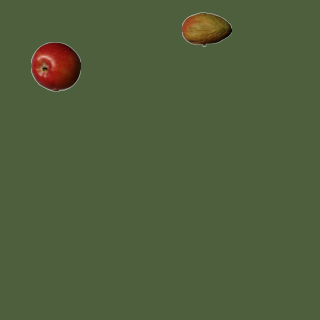Apple Braeburn: (30, 41, 80, 91)
Papaya: (181, 4, 231, 54)
